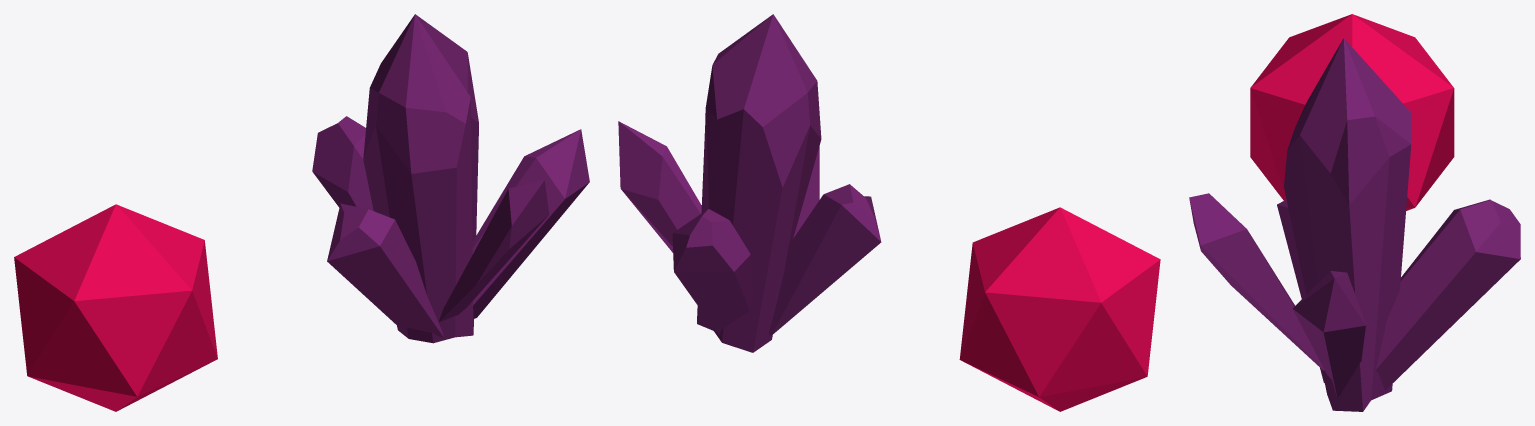
File: Crystals.fbx
3 views of the same model, side by side, from view 1: azimuth 30°, elevation 25°; view 2: azimuth 150°, elevation 25°; view 3: azimuth 270°, elevation 25° (orthographic). The views are drawn at different scales.
Parts seen in each view (by area): view 1: CrystalA, CrystalB; view 2: CrystalA, CrystalB; view 3: CrystalA, CrystalB.
Part boxes in pixels (<box>): CrystalA: <box>312,14,589,343</box>; CrystalB: <box>14,204,217,411</box>; CrystalA: <box>618,14,881,352</box>; CrystalB: <box>959,207,1160,411</box>; CrystalA: <box>1189,38,1520,411</box>; CrystalB: <box>1250,14,1454,210</box>.
Size of the model in its own units: 2.67 by 1.54 by 1.34.
